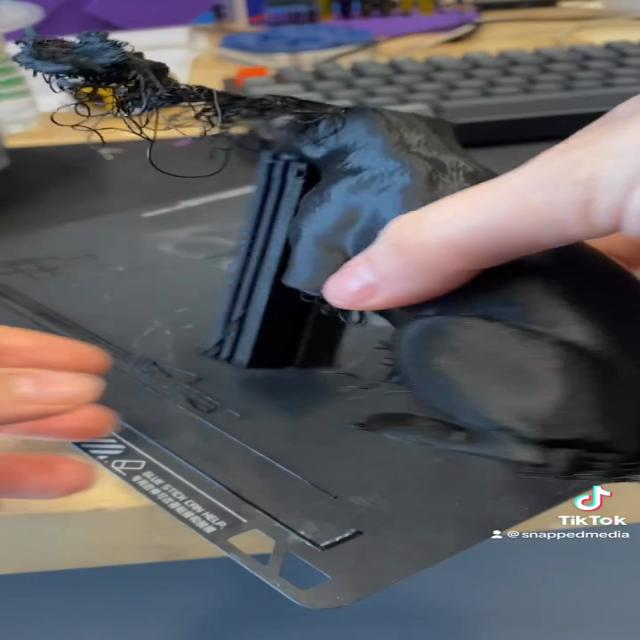spaghetti: (6, 28, 282, 184)
